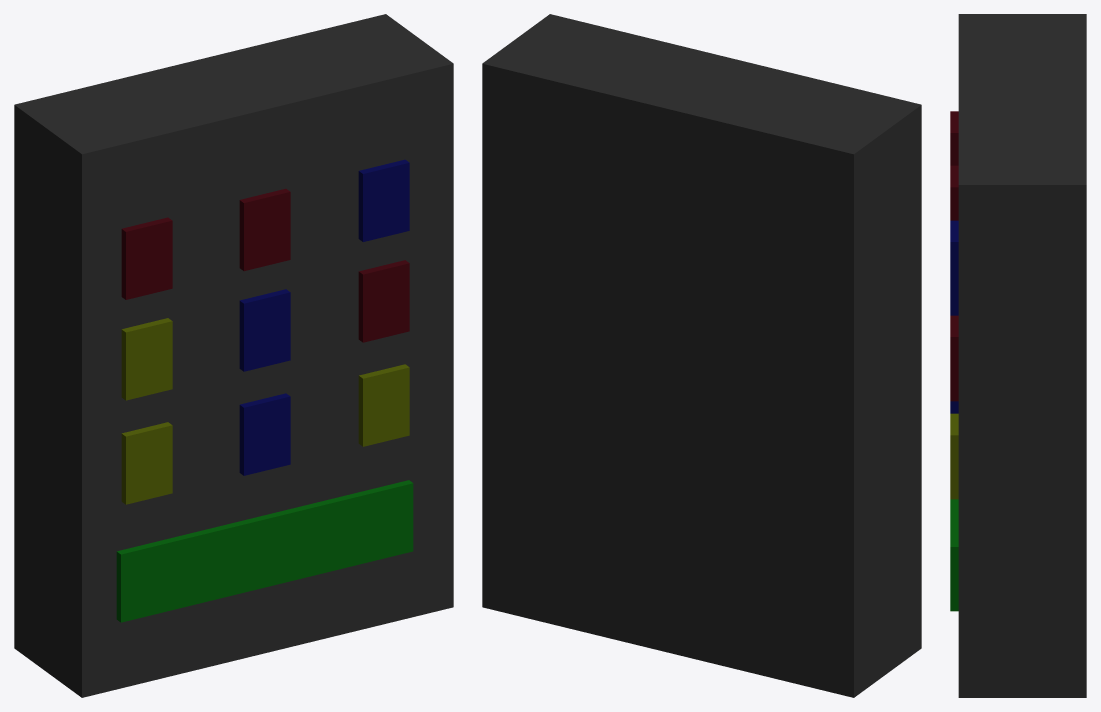
Rendered from WallTile.obj.
The picture shows the model from 3 angles, left to right: view 1: azimuth 30°, elevation 25°; view 2: azimuth 150°, elevation 25°; view 3: azimuth 270°, elevation 25°; orthographic projection. The views are drawn at different scales.
Visible parts, largest first — view 1: group16_pasted__group15_pasted__pasted__group14_pasted__pasted__; view 2: group16_pasted__group15_pasted__pasted__group14_pasted__pasted__; view 3: group16_pasted__group15_pasted__pasted__group14_pasted__pasted__.
Part boxes in pixels (x1=…): group16_pasted__group15_pasted__pasted__group14_pasted__pasted__: x1=14, y1=14, x2=453, y2=697; group16_pasted__group15_pasted__pasted__group14_pasted__pasted__: x1=482, y1=14, x2=921, y2=697; group16_pasted__group15_pasted__pasted__group14_pasted__pasted__: x1=950, y1=14, x2=1086, y2=697.
Bounding box in the file's own units: 18.82 × 26.3 × 6.33.
